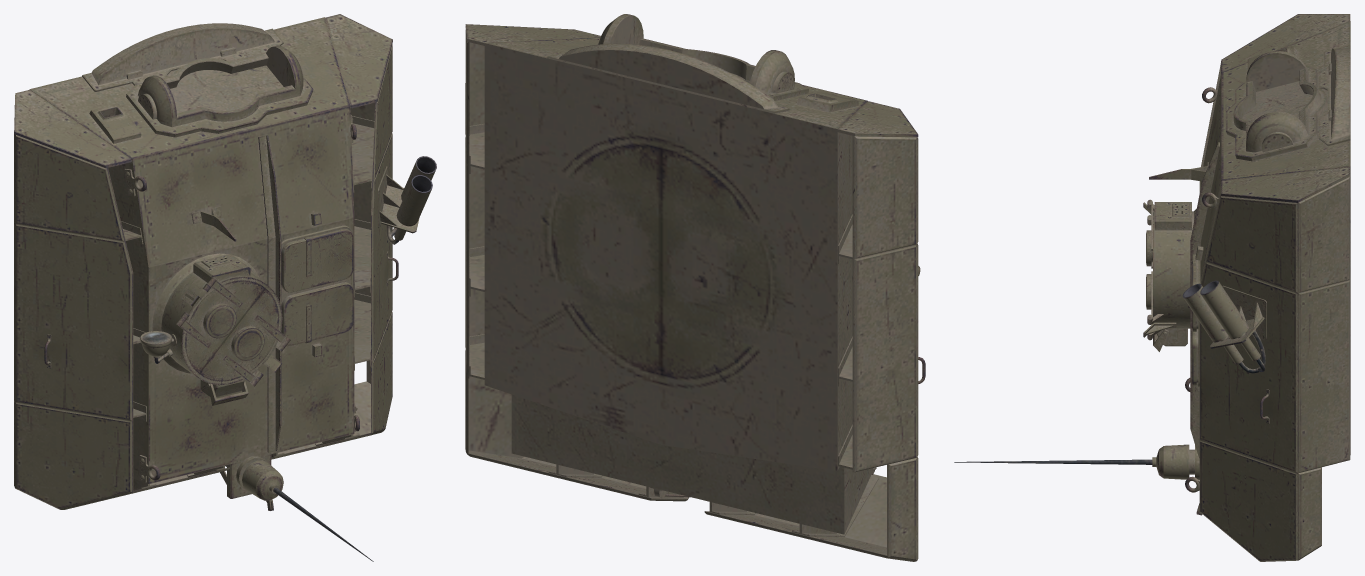
The model's file is Turret_02.glb.
3 views of the same model, side by side, from view 1: azimuth 30°, elevation 25°; view 2: azimuth 150°, elevation 25°; view 3: azimuth 270°, elevation 25° (orthographic). The views are drawn at different scales.
Parts seen in each view (by area): view 1: set_0_group_0; view 2: set_0_group_0; view 3: set_0_group_0.
Part boxes in pixels (x1=…): set_0_group_0: x1=14, y1=14, x2=436, y2=561; set_0_group_0: x1=465, y1=14, x2=925, y2=561; set_0_group_0: x1=954, y1=14, x2=1350, y2=561.
Bounding box in the file's own units: 2.08 × 2.25 × 1.85.
Materials: 1 (1 with a texture image).
